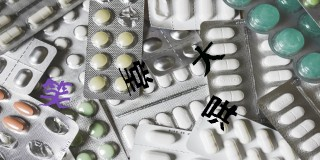哄: (200, 95, 238, 131)
堂: (118, 60, 153, 96)
大: (192, 41, 226, 76)
笑: (38, 78, 73, 109)
